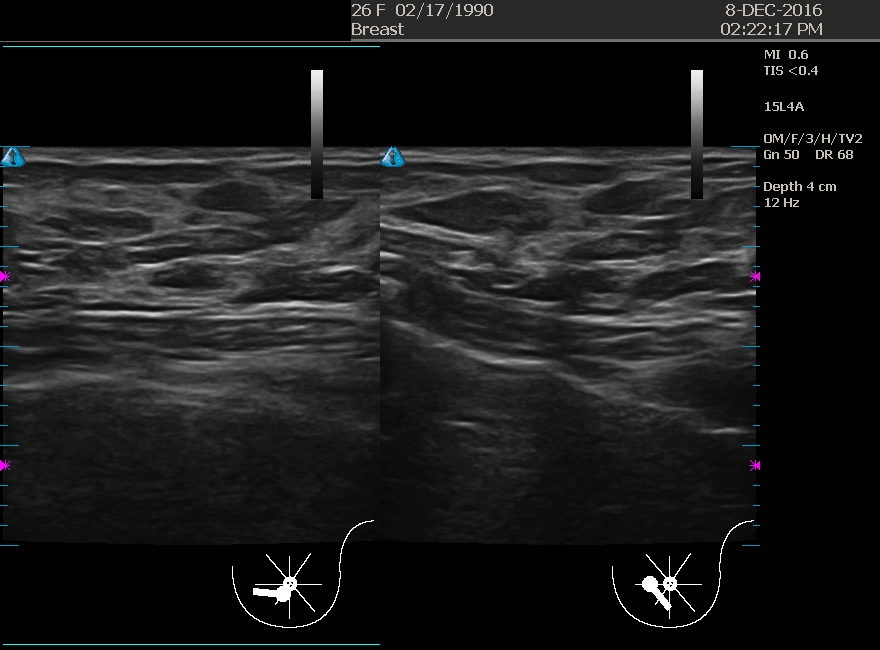BIRADS_2: (104, 155, 304, 356), (485, 150, 685, 351)
